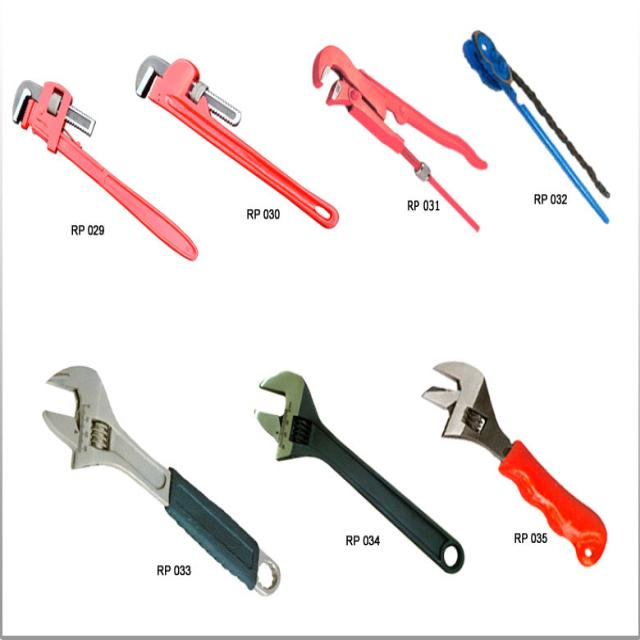wrench: (26, 342, 247, 610), (421, 334, 635, 542), (252, 350, 423, 543)
